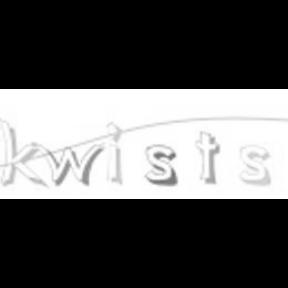i: (104, 121, 124, 185)
k: (1, 118, 46, 188)
s: (144, 142, 178, 186)
t: (194, 128, 222, 186), (238, 144, 272, 186)
w: (32, 140, 104, 186)
